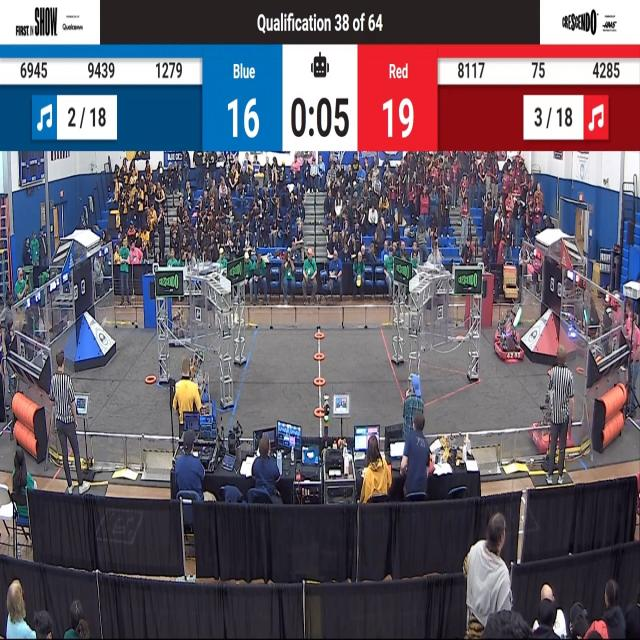Robot: (527, 358, 575, 453), (493, 304, 525, 366), (491, 285, 523, 345), (163, 300, 201, 350), (199, 382, 225, 429), (200, 355, 218, 411)
